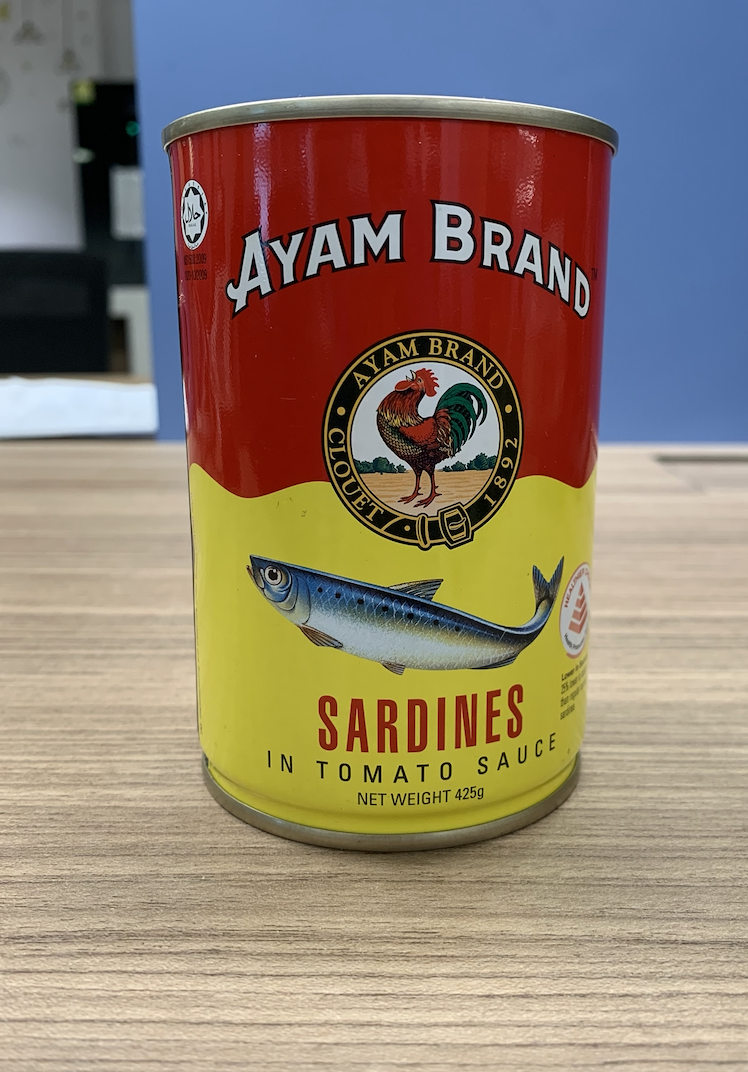sardines_400g-499g: (190, 157, 580, 813)
